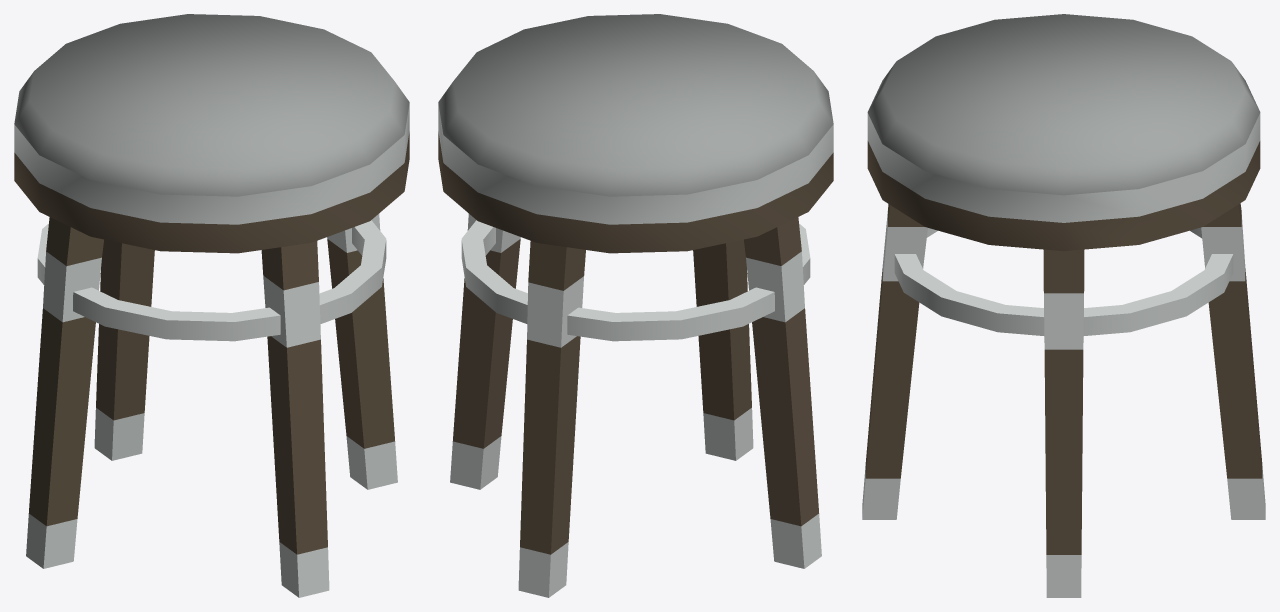
The picture shows the model from 3 angles, left to right: view 1: azimuth 30°, elevation 25°; view 2: azimuth 150°, elevation 25°; view 3: azimuth 270°, elevation 25°; orthographic projection.
Parts seen in each view (by area): view 1: G:\FFXIV-MapTools\exports\s1f3\bg\ffxiv\sea_s1\fld\s1f3\bgpa (×3); view 2: G:\FFXIV-MapTools\exports\s1f3\bg\ffxiv\sea_s1\fld\s1f3\bgpa (×3); view 3: G:\FFXIV-MapTools\exports\s1f3\bg\ffxiv\sea_s1\fld\s1f3\bgpa (×3).
Boxes of the visible parts, x1,y1,x2,y2 form: G:\FFXIV-MapTools\exports\s1f3\bg\ffxiv\sea_s1\fld\s1f3\bgpa (×3): (14, 14, 409, 597); G:\FFXIV-MapTools\exports\s1f3\bg\ffxiv\sea_s1\fld\s1f3\bgpa (×3): (438, 14, 833, 597); G:\FFXIV-MapTools\exports\s1f3\bg\ffxiv\sea_s1\fld\s1f3\bgpa (×3): (862, 14, 1265, 597).
Size of the model in its own units: 0.4233 by 0.4888 by 0.4233.
